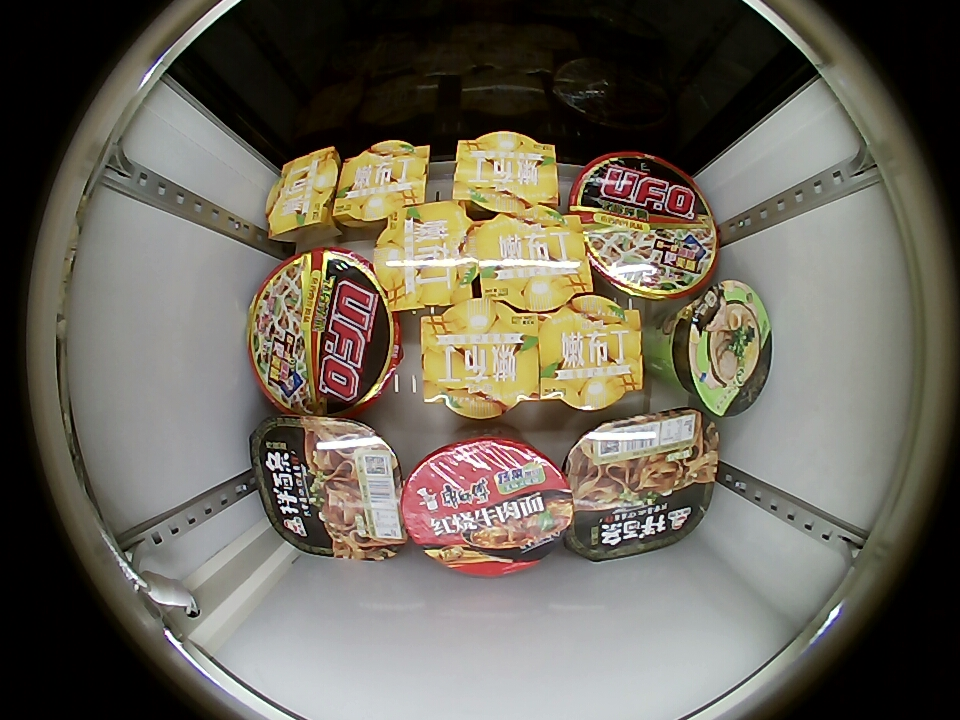buding: (421, 298, 538, 418), (471, 204, 593, 312), (539, 295, 643, 410), (373, 201, 476, 310), (453, 131, 560, 215), (333, 138, 430, 227), (266, 147, 340, 236)
gudasao: (562, 407, 717, 563), (249, 417, 407, 561)
hongshaoniurou: (401, 432, 575, 576)
tangdaren: (663, 281, 773, 417)
ufo2: (248, 248, 401, 417), (568, 151, 719, 299)
